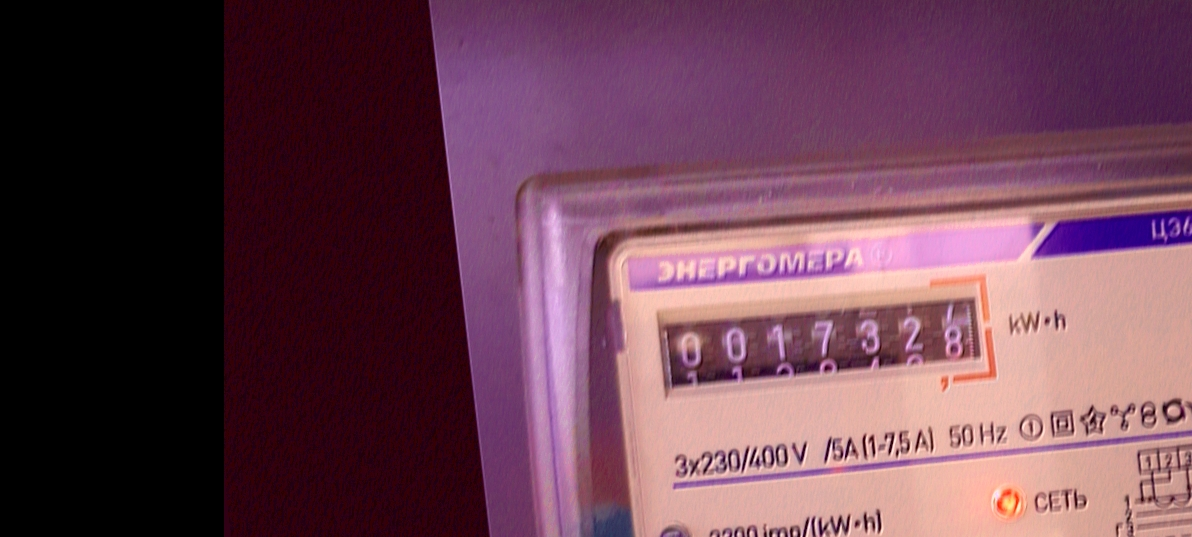0: (676, 328, 706, 370), (723, 324, 750, 365)
1: (768, 321, 790, 362)
2: (899, 314, 926, 353)
3: (858, 317, 884, 355)
7: (812, 317, 839, 358)
8: (942, 322, 965, 359)
screen: (645, 269, 1009, 424)
